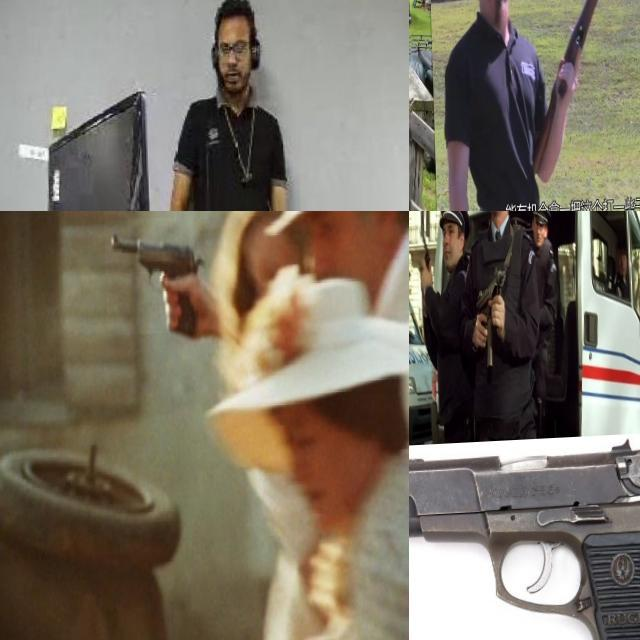gun-knife-thesis - v11 Yolov5 augmented: (409, 439, 640, 640), (409, 0, 551, 186), (518, 0, 640, 192), (409, 257, 519, 459), (103, 219, 196, 338), (465, 266, 515, 380), (409, 419, 450, 461)
